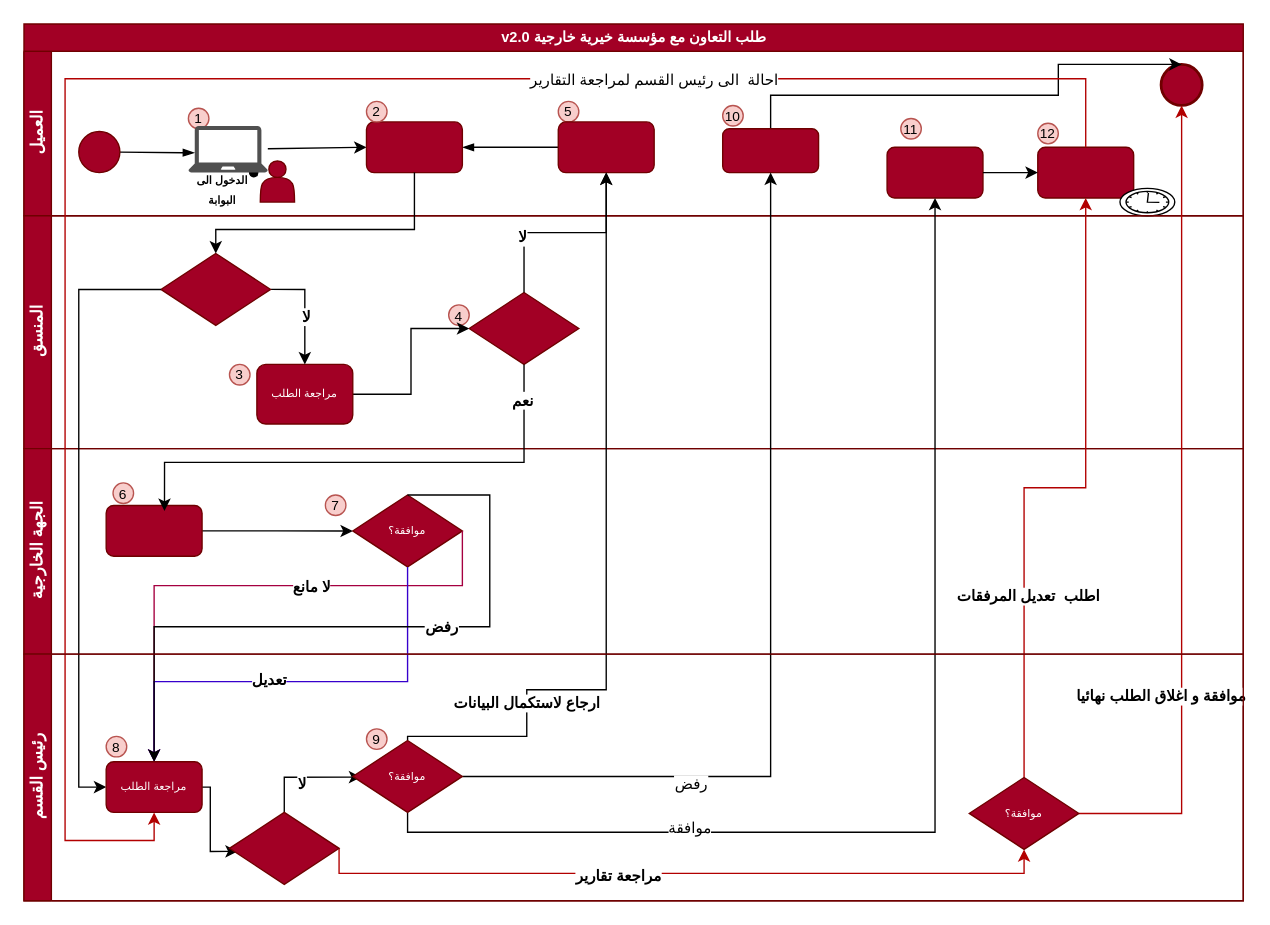
Image size: 1270x925. Some labels were removed from this diagram. The shapes that lost their labels are listed below. From the top down, each one's centre as x and y in pixels, then its label:
point (1181, 84): اغلاق
point (98, 151): بداية
point (413, 147): تعبئة وتقديم نموذج الطلب
point (605, 147): استكمال البيانات المطلوبة و اعادة الارسال
point (770, 150): ارسال رسالة إعتذار
point (934, 172): ارسال رسالة موافقة
point (1085, 172): يجب ارفاق التقارير بعد انتهاء مدة الطلب
point (215, 288): من رئيس القسم؟ في حال مرجع من رئيسر القسم
point (523, 327): الطلب مكتمل؟
point (153, 530): مراجعة الطلب و اعطاء التوصيات
point (283, 847): احالة لمراجعة التقارير؟
